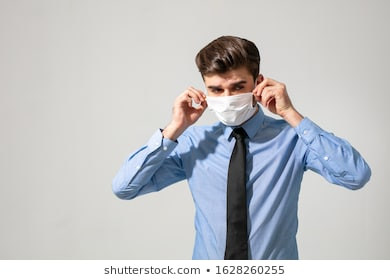with_mask: (195, 53, 264, 124)
